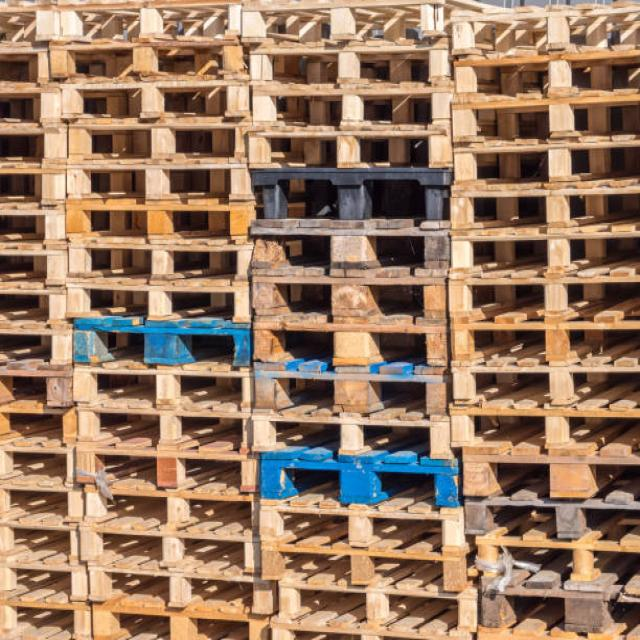Wooden-Pallets: (272, 570, 480, 640), (440, 265, 640, 334), (72, 513, 258, 580), (245, 118, 458, 175), (70, 402, 250, 469), (445, 45, 640, 103), (244, 315, 443, 370), (59, 153, 247, 207), (59, 277, 250, 329), (58, 77, 249, 122)
